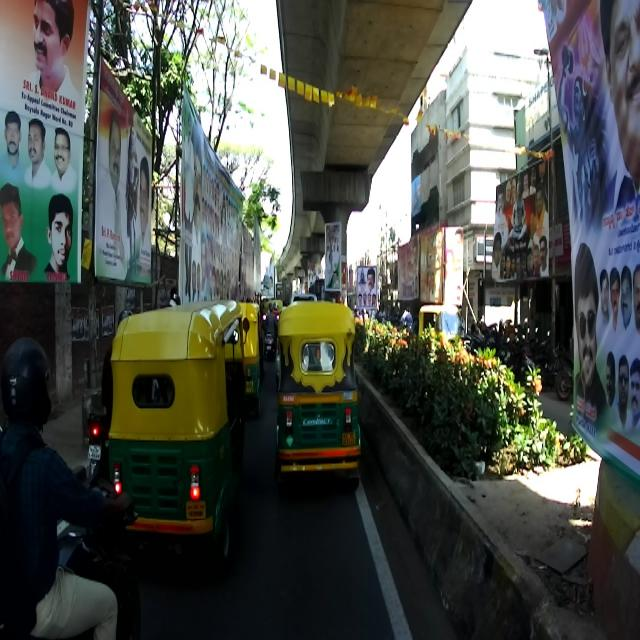autorickshaw: (106, 297, 250, 578), (274, 299, 362, 494), (414, 302, 468, 358)
motorcycle: (520, 328, 552, 388)
motorcycle_Hero: (85, 406, 112, 495)
motorcycle_Honda: (1, 462, 144, 638)
